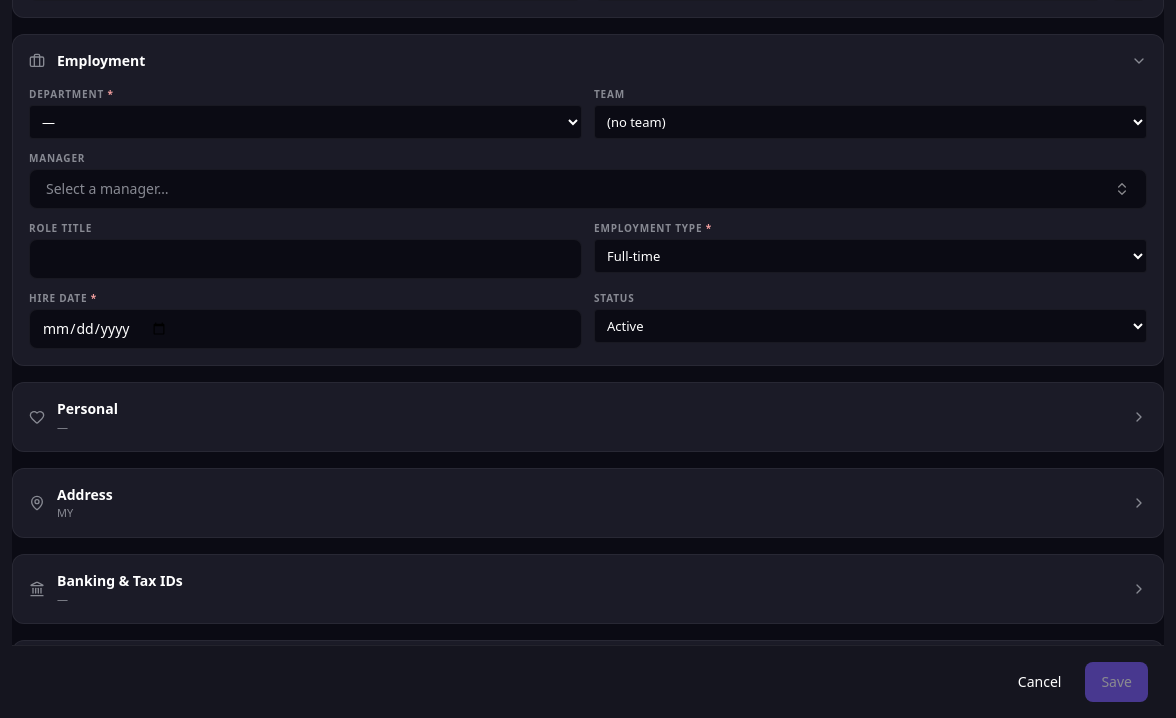
Test: EmployeeForm › starts optional sections collapsed in create mode
(page scrolled)
Expected: the field labelled "date of birth" is not shown
Click the button with aria-label "toggle personal". click: click(87, 408)
box: [13,383,1163,451]
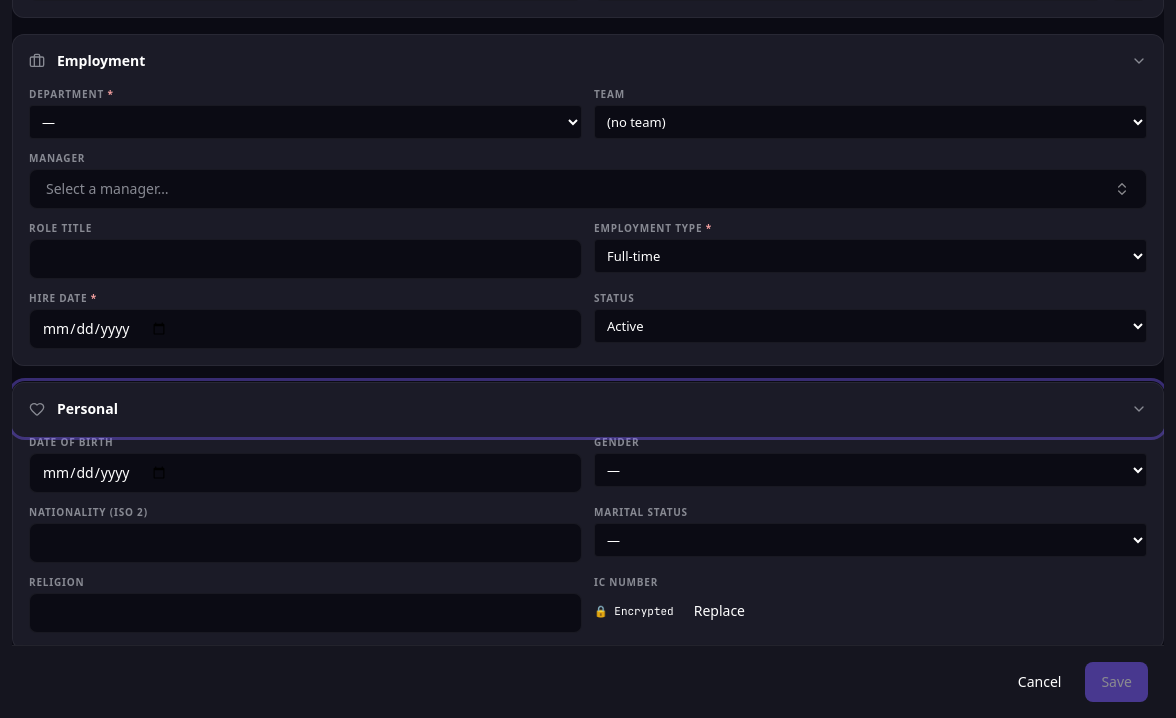
Result: the date field labelled "Date of birth" is shown at [29,453,582,493]
